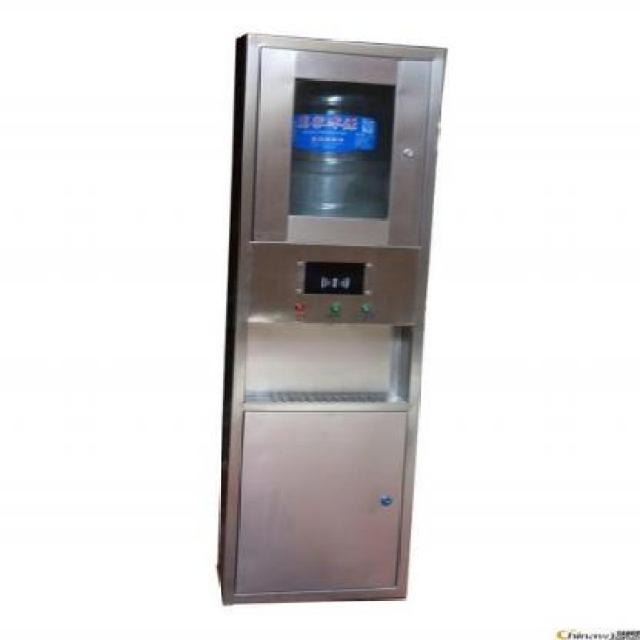cooler: (211, 28, 457, 612)
